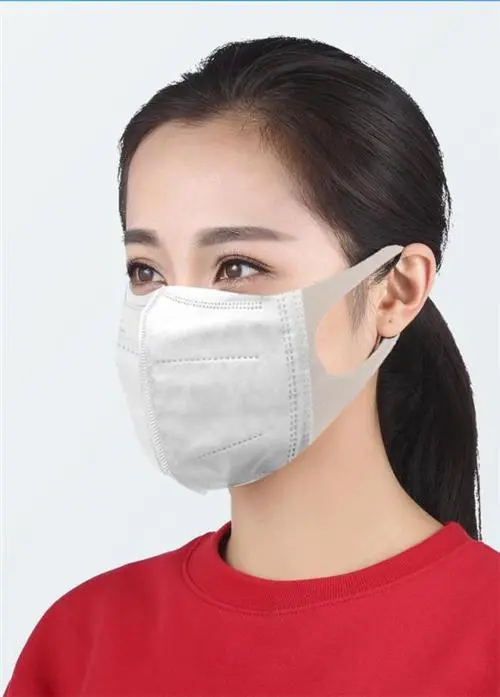withmask: (101, 40, 451, 491)
